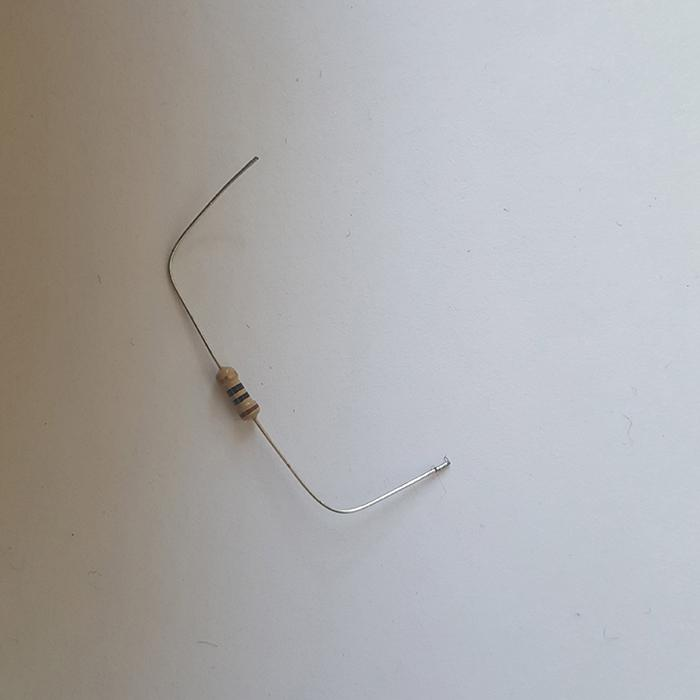resistor: (215, 365, 258, 422)
